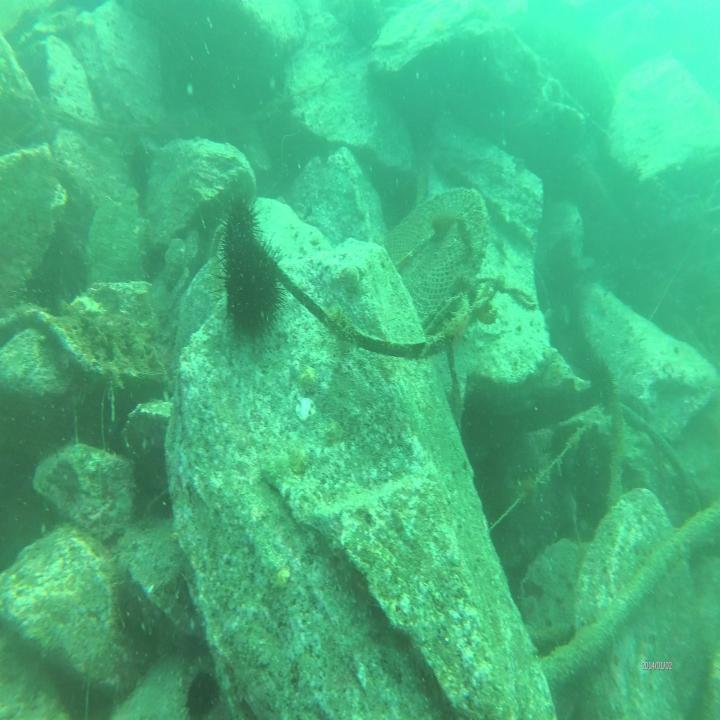echinus: (212, 240, 290, 343), (111, 580, 152, 656), (217, 193, 264, 257), (178, 674, 222, 718)
holothurian: (443, 297, 469, 342)
